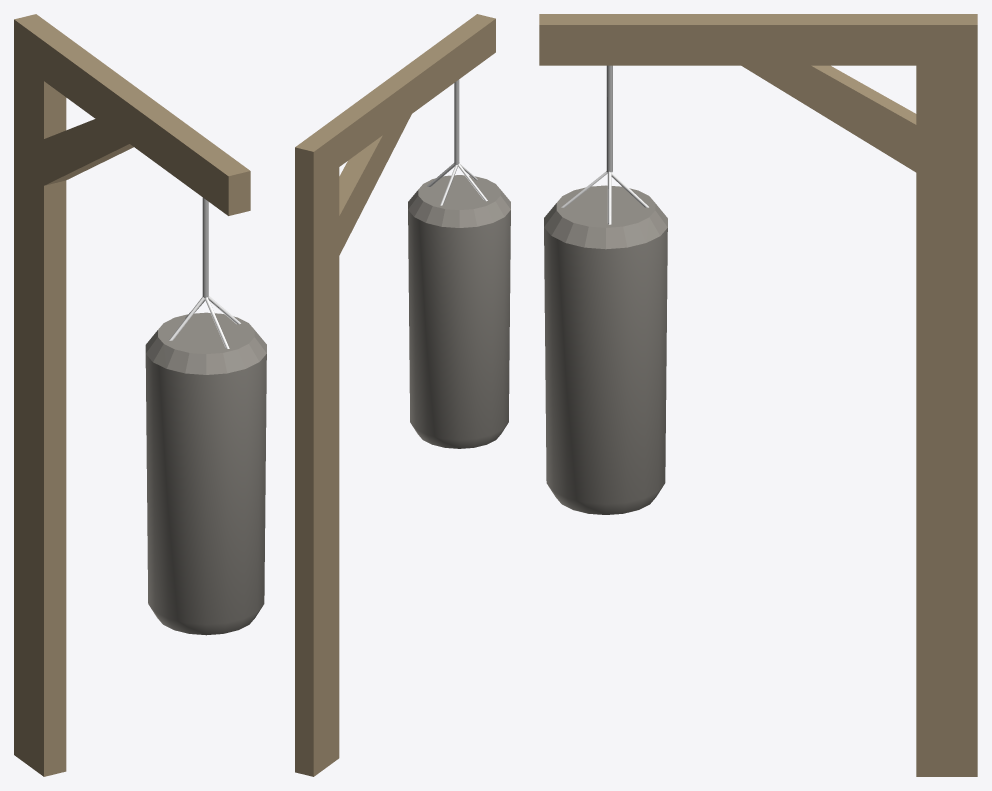
File: SM_Pear_01.FBX
3 renders of one model, left to right at view 1: azimuth 30°, elevation 25°; view 2: azimuth 150°, elevation 25°; view 3: azimuth 270°, elevation 25°, orthographic. The views are drawn at different scales.
Visible parts, largest first — view 1: SM_Pear_01; view 2: SM_Pear_01; view 3: SM_Pear_01.
Boxes of the visible parts, <box> form: SM_Pear_01: <box>14,14,266,776</box>; SM_Pear_01: <box>295,14,510,776</box>; SM_Pear_01: <box>539,14,977,776</box>.
Bounding box in the file's own units: 44.81 × 156 × 296.
